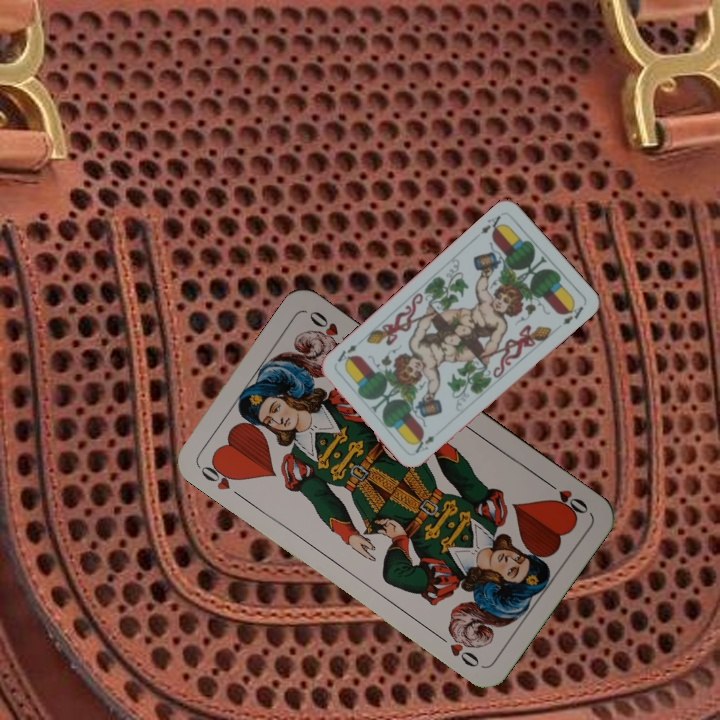EA: (476, 211, 506, 238), (411, 431, 438, 456)
HO: (195, 456, 246, 502), (541, 476, 591, 520)
